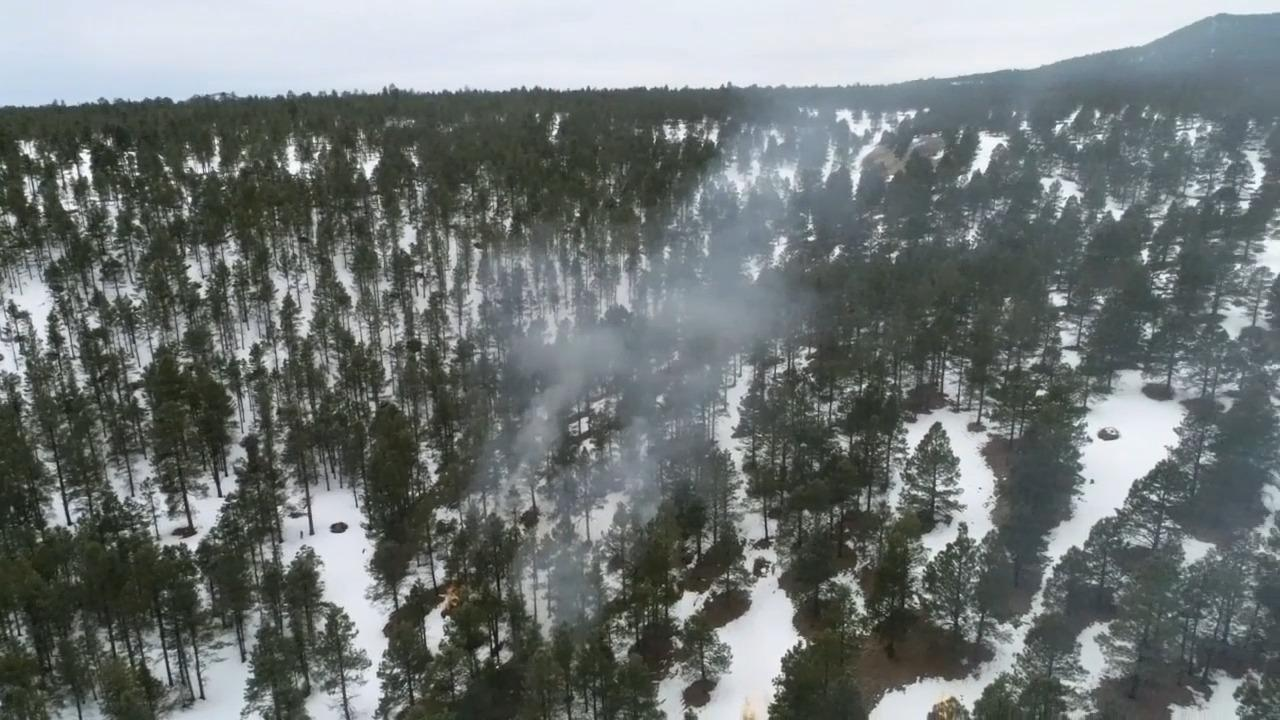smoke: (434, 95, 894, 611)
